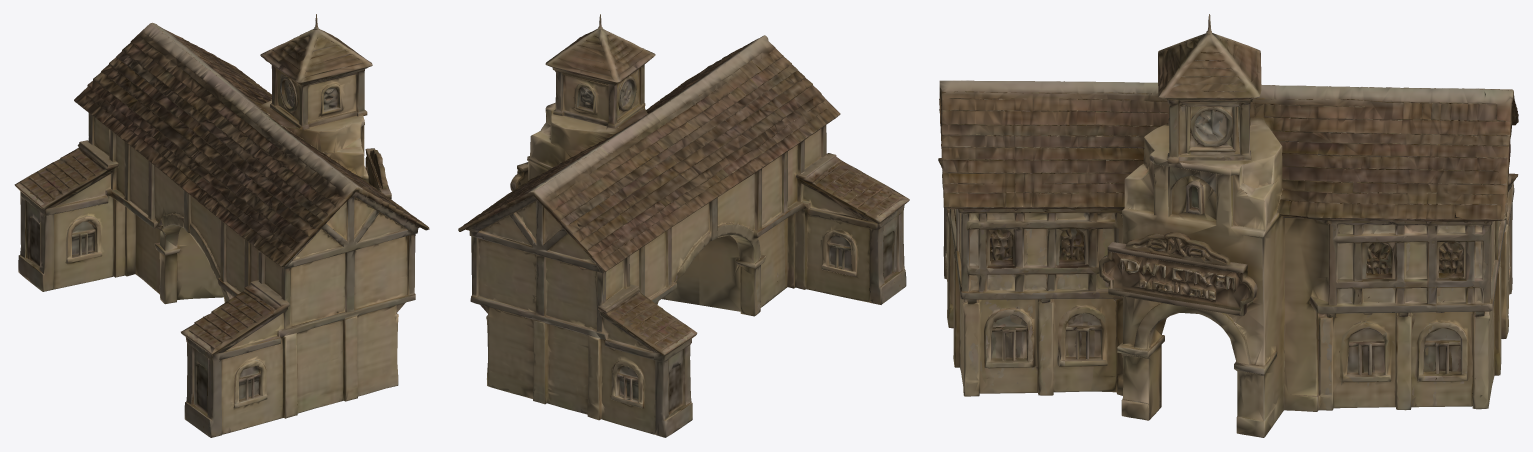
Rendered from town-center.glb.
3 views of the same model, side by side, from view 1: azimuth 30°, elevation 25°; view 2: azimuth 150°, elevation 25°; view 3: azimuth 270°, elevation 25° (orthographic). The views are drawn at different scales.
Visible parts, largest first — view 1: tripo_node_6a4d9373-51d1-4b01-b2de-e2fd6f1f5ff6; view 2: tripo_node_6a4d9373-51d1-4b01-b2de-e2fd6f1f5ff6; view 3: tripo_node_6a4d9373-51d1-4b01-b2de-e2fd6f1f5ff6.
Part boxes in pixels (left/top/right/bottom): tripo_node_6a4d9373-51d1-4b01-b2de-e2fd6f1f5ff6: left=14, top=14, right=429, bottom=437; tripo_node_6a4d9373-51d1-4b01-b2de-e2fd6f1f5ff6: left=458, top=14, right=909, bottom=437; tripo_node_6a4d9373-51d1-4b01-b2de-e2fd6f1f5ff6: left=938, top=14, right=1518, bottom=437.
Size of the model in its own units: 0.7335 by 0.7417 by 0.9987.
1 material, 1 textured.
